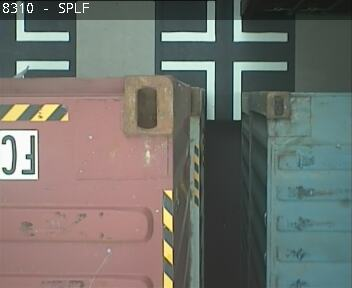groundmarker_1: (161, 60, 287, 120), (161, 1, 286, 42)
